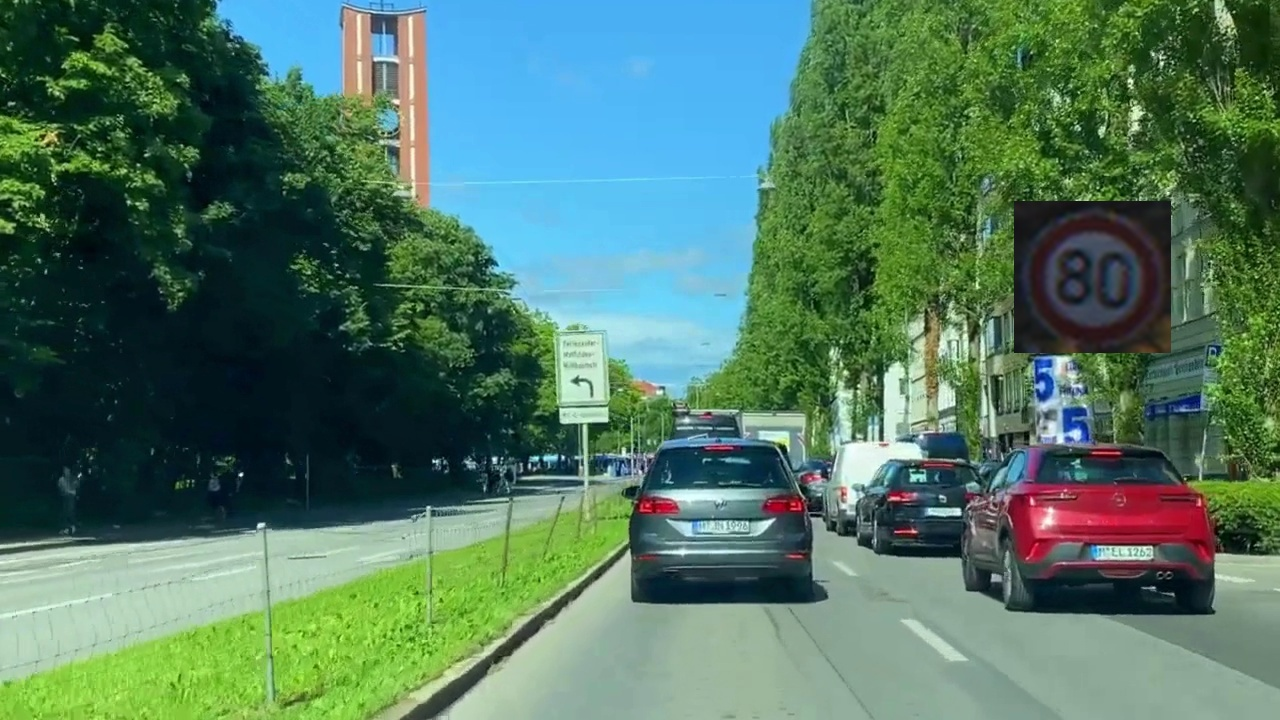Speed 80: (1014, 201, 1171, 353)
